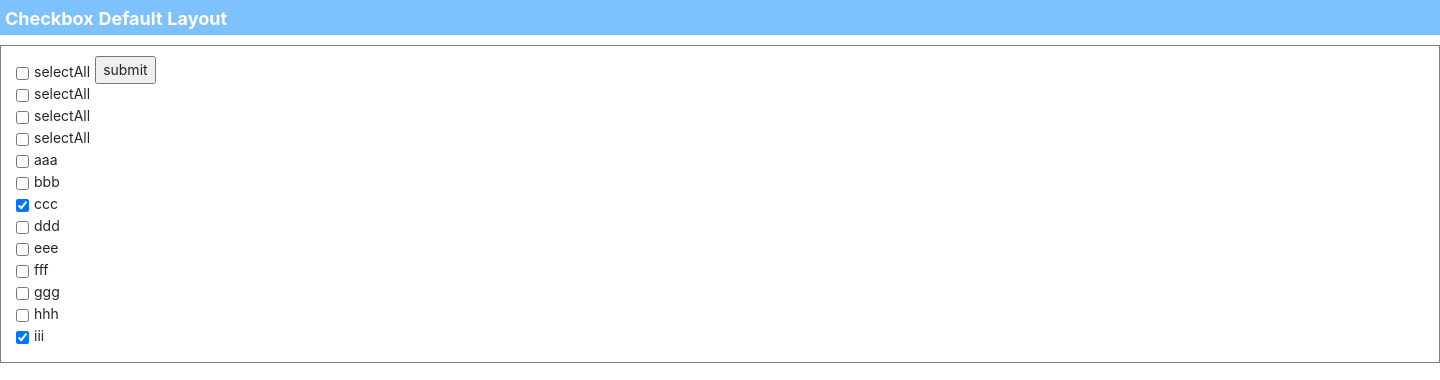
interactive › all checkbox should not selected if double click selectAll
Step 1. Click the 1st text "selectAll" → (62, 72), box [34,61,90,83]
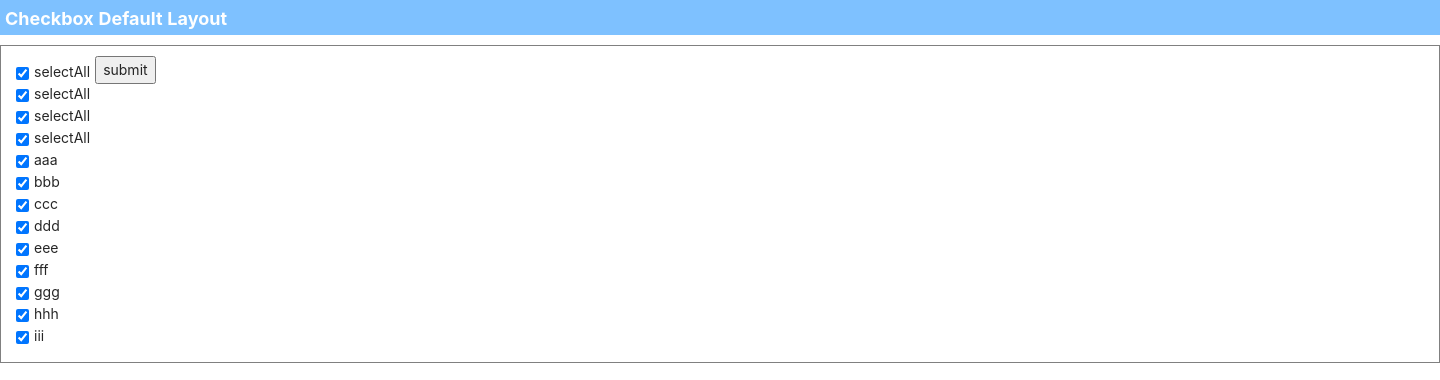
Step 2. Click the 1st text "selectAll" → (62, 72), box [34,61,90,83]
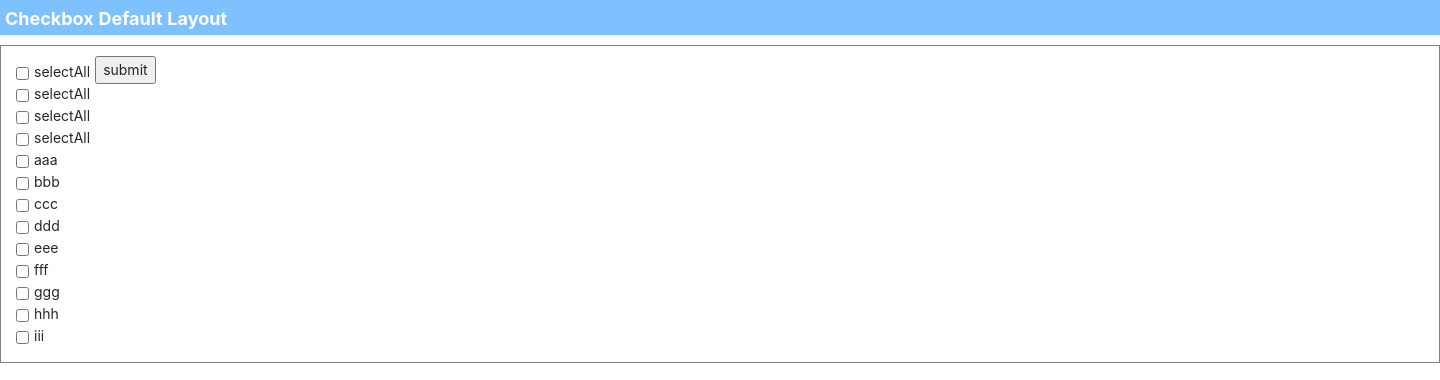
Check: the checkbox labelled "aaa" is not checked, box [16,155,29,168]
Check: the checkbox labelled "bbb" is not checked, box [16,177,29,190]
Check: the checkbox labelled "ccc" is not checked, box [16,199,29,212]
